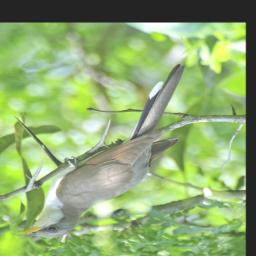Cuckoo: (15, 64, 186, 238)
